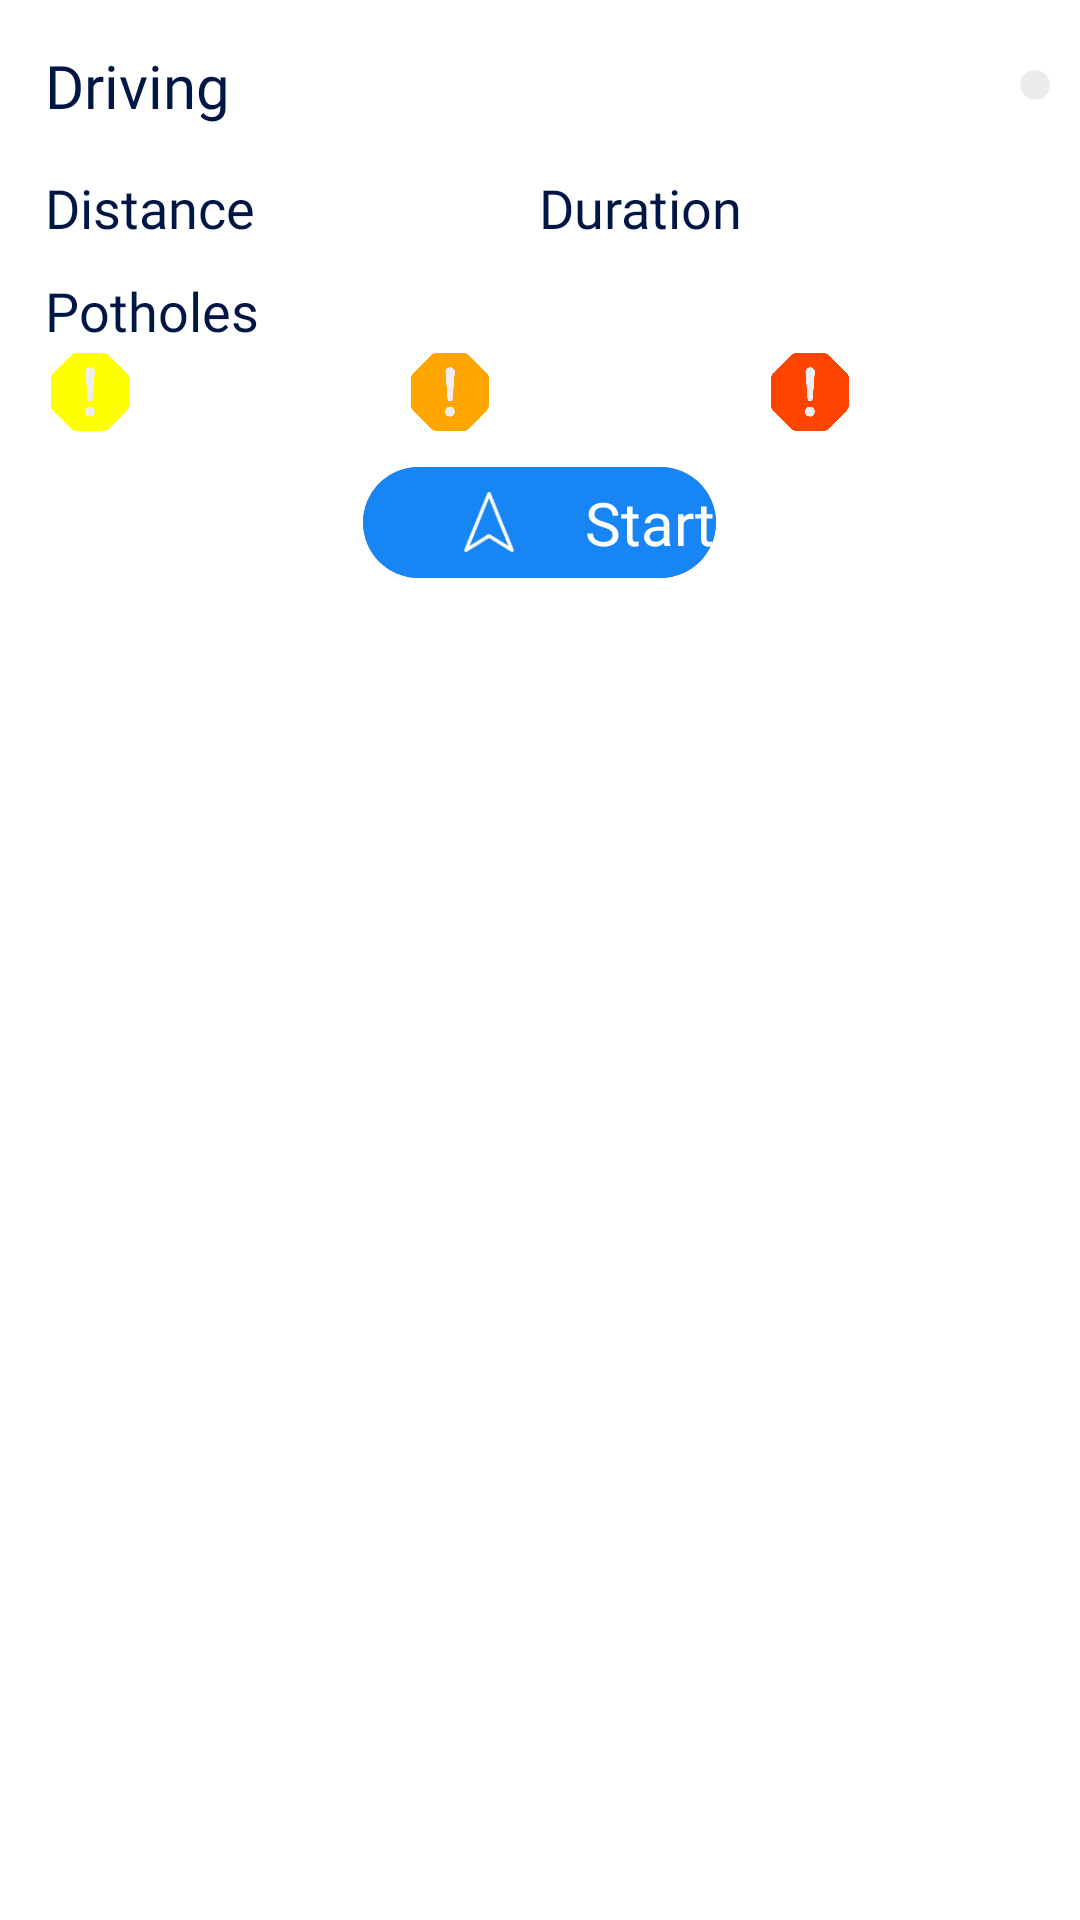

Icons on this 1080px×1920px Android screen, each with its box as bbox(x1, y1, x2, y2):
caution pot: bbox(51, 353, 129, 431)
danger pot: bbox(771, 353, 849, 431)
navigation: bbox(463, 492, 514, 552)
warning pot: bbox(411, 353, 489, 431)
